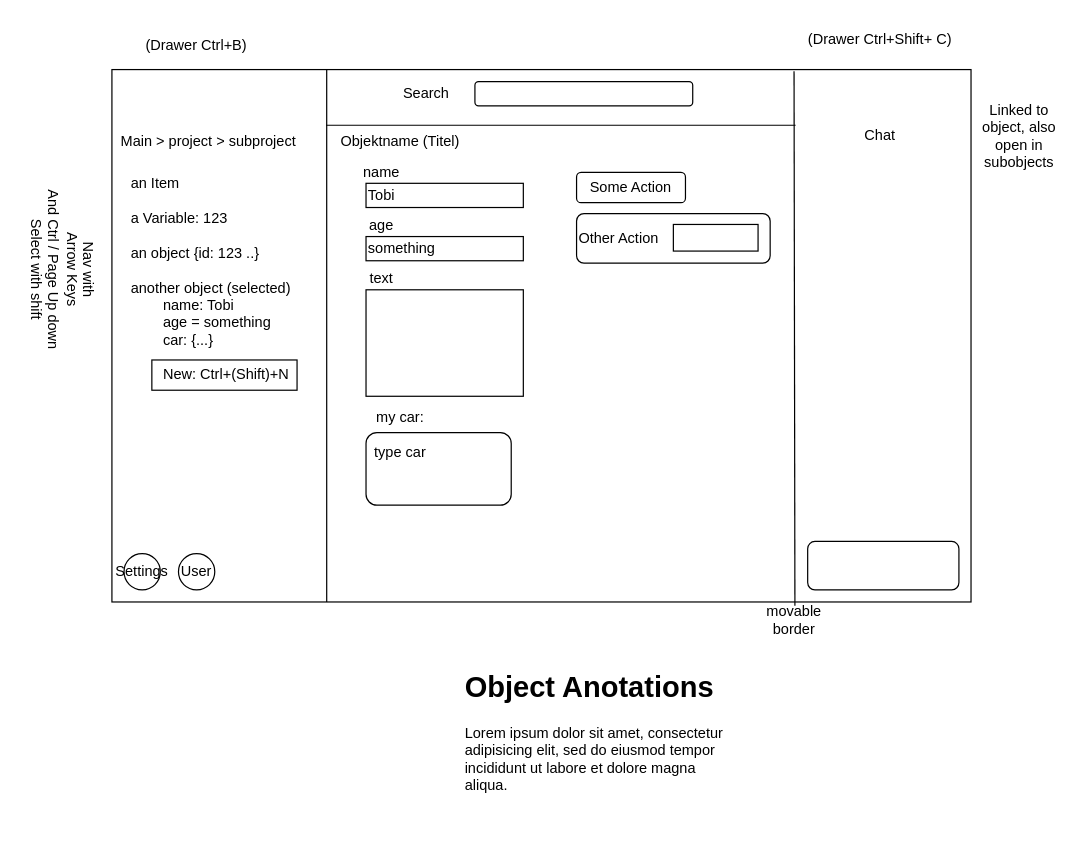
Image size: 1088x855. Some labels were removed from this diagram. Here are the shapes that lost their labels. From the top down, the centre of each, then its label:
At [583,93]: "Ctrl+F".
At [444,342]: "something andmore text anything and other things".
At [882,565]: "Type something ...".
